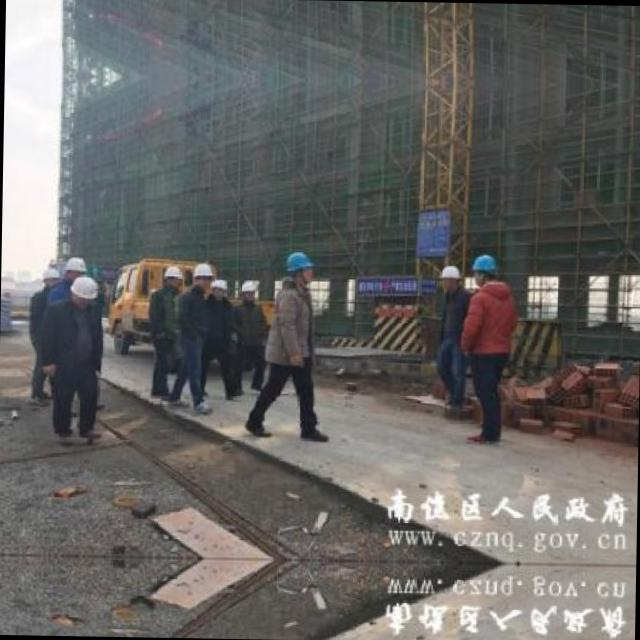helmet: (282, 248, 314, 290), (68, 274, 100, 312), (472, 252, 494, 289), (433, 263, 461, 292), (38, 264, 61, 290), (160, 264, 182, 290), (64, 254, 84, 282), (193, 261, 211, 292), (238, 278, 255, 301), (209, 276, 226, 298)
